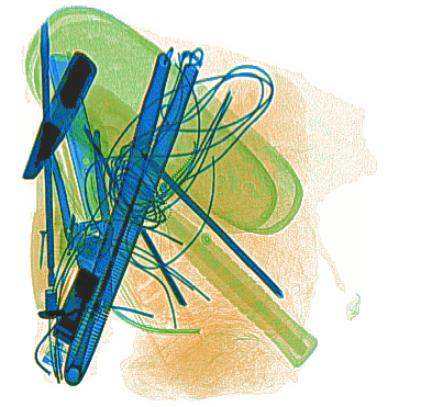knife: (43, 51, 112, 230)
